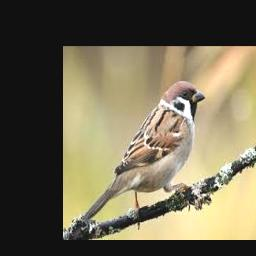Sparrow: (83, 81, 206, 226)
